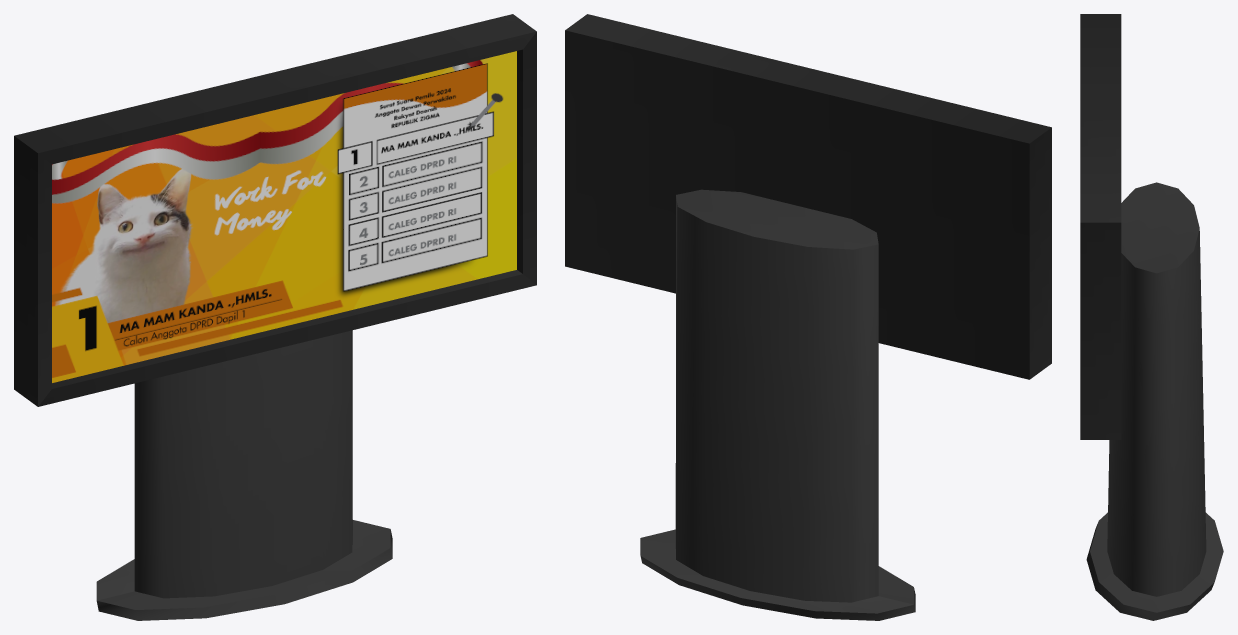
Rendered from Paslon1.fbx.
The picture shows the model from 3 angles, left to right: view 1: azimuth 30°, elevation 25°; view 2: azimuth 150°, elevation 25°; view 3: azimuth 270°, elevation 25°; orthographic projection. The views are drawn at different scales.
Visible parts, largest first — view 1: Cylinder.003; view 2: Cylinder.003; view 3: Cylinder.003.
Boxes of the visible parts, x1,y1,x2,y2 form: Cylinder.003: [14, 14, 536, 620]; Cylinder.003: [565, 14, 1051, 620]; Cylinder.003: [1080, 14, 1223, 620].
Bounding box in the file's own units: 2593 × 2556 × 754.
Materials: 2 (2 with a texture image).
